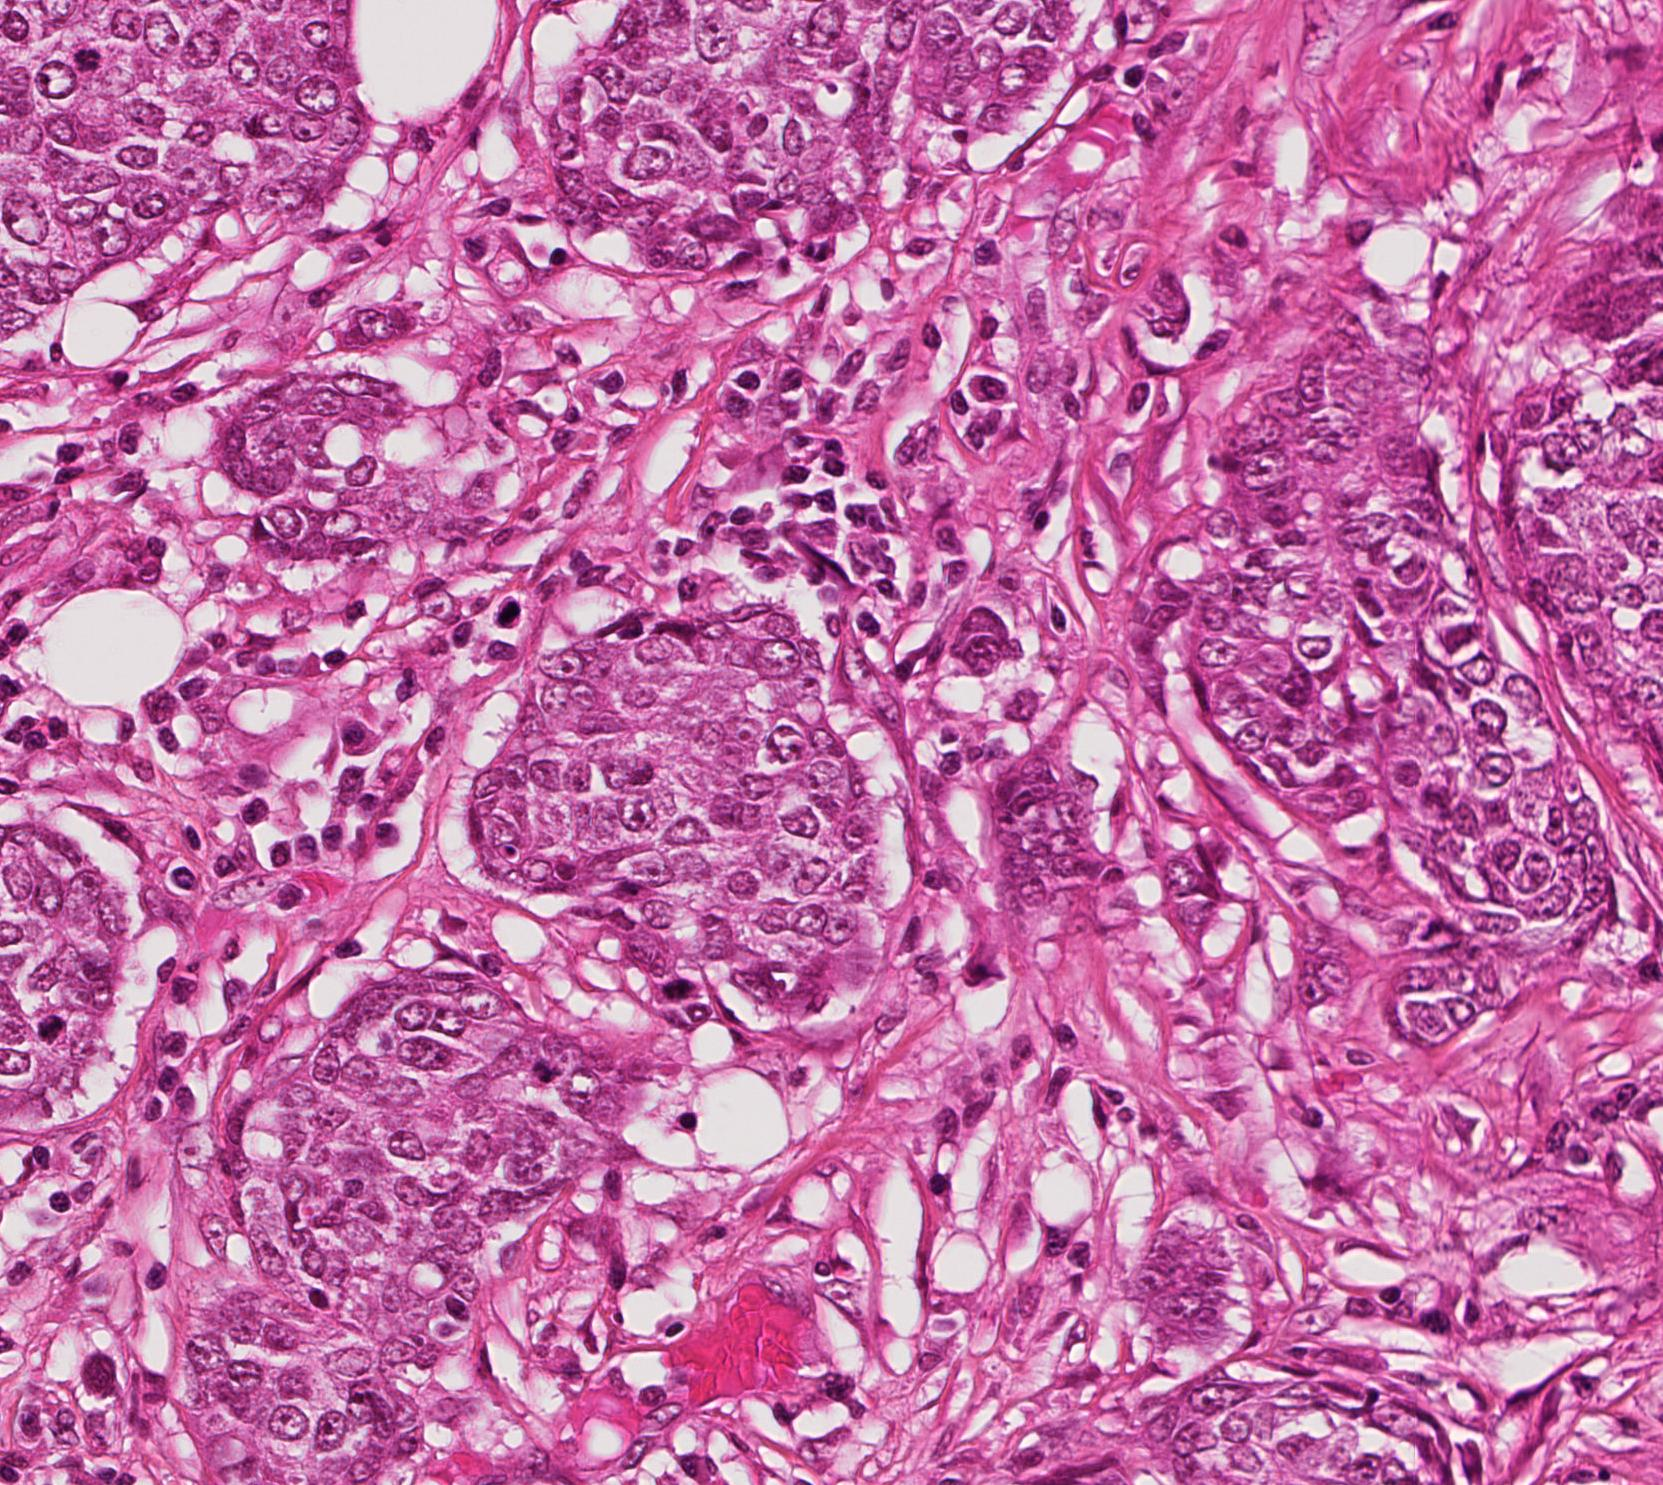mitosis: (57, 29, 118, 89)
